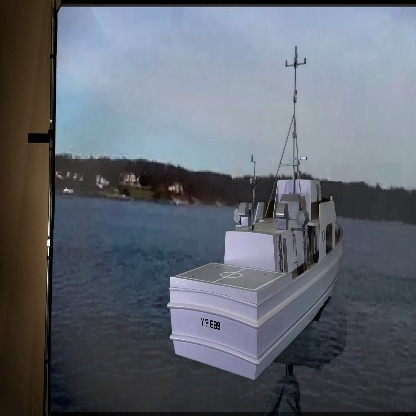YP689: (166, 46, 345, 376)
